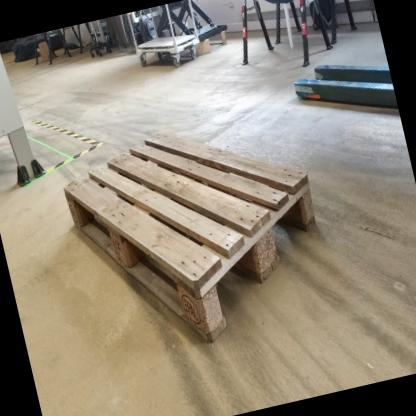BoxFace: (60, 127, 321, 351)
